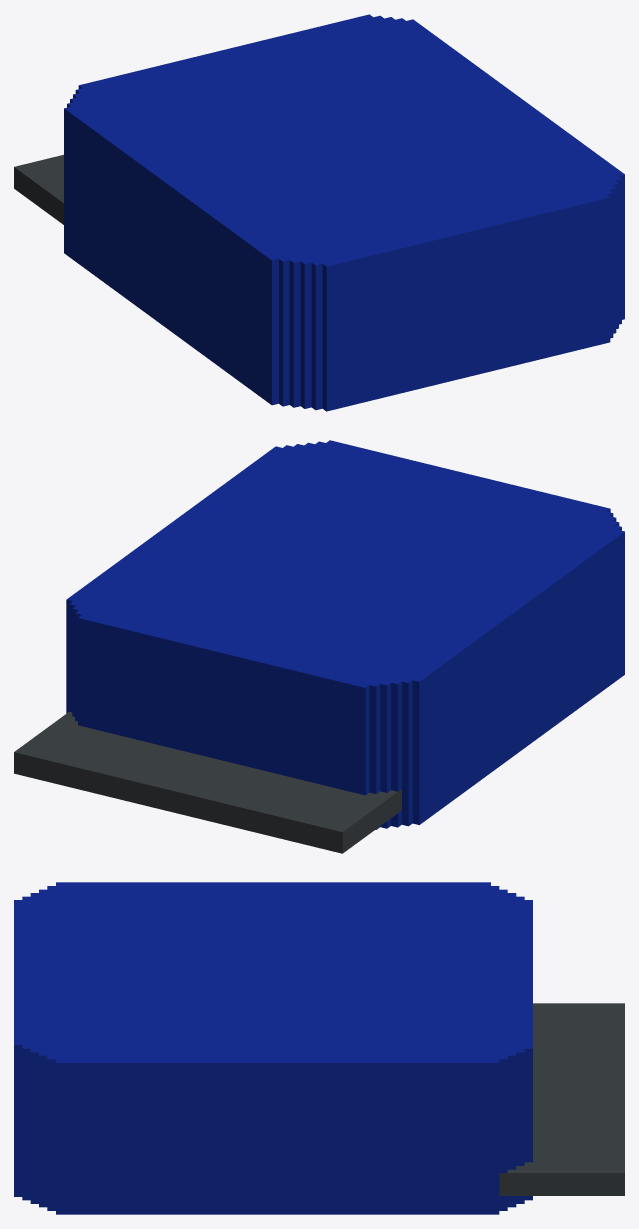
Rendered from baseball_cap.glb.
The picture shows the model from 3 angles, top to bottom: view 1: azimuth 30°, elevation 25°; view 2: azimuth 150°, elevation 25°; view 3: azimuth 270°, elevation 25°; orthographic projection. The views are drawn at different scales.
Visible parts, largest first — view 1: baseball_cap:cap; view 2: baseball_cap:cap; view 3: baseball_cap:cap.
Boxes of the visible parts, x1,y1,x2,y2 form: baseball_cap:cap: [14, 14, 624, 411]; baseball_cap:cap: [14, 440, 624, 853]; baseball_cap:cap: [14, 882, 624, 1214].
Size of the model in its own units: 0.204 by 0.08 by 0.292.
